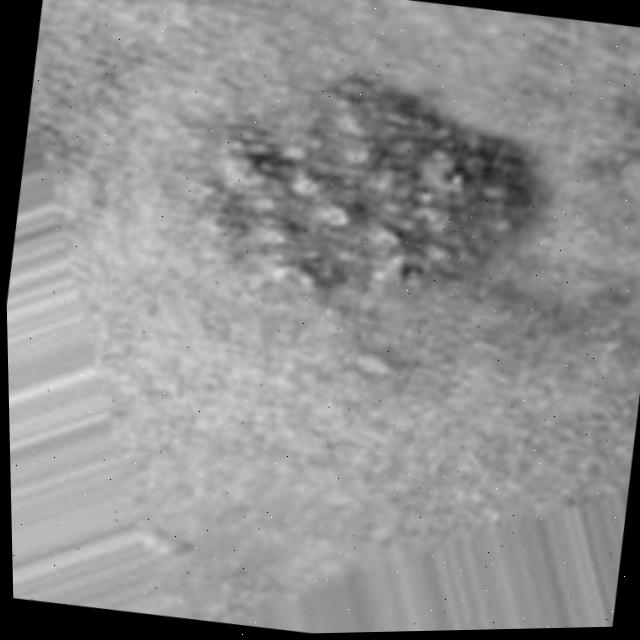Shingles: (236, 83, 550, 335)
